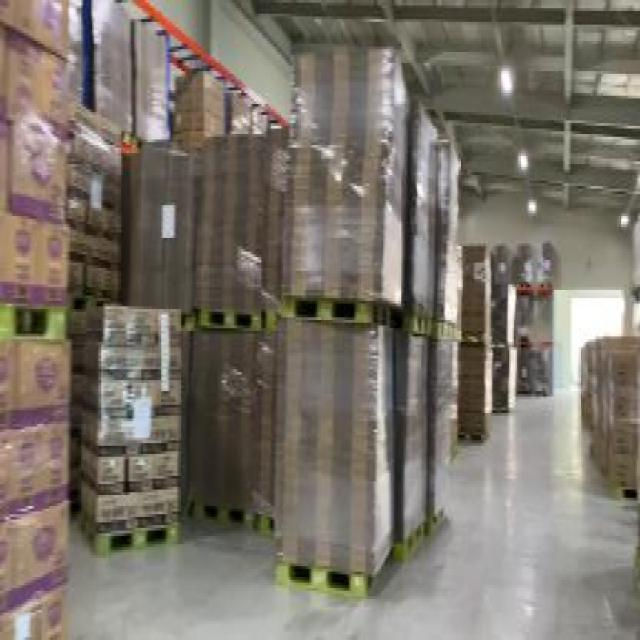box: (278, 44, 456, 596), (122, 128, 276, 550), (2, 3, 68, 632), (83, 295, 183, 558), (452, 230, 517, 451), (78, 3, 172, 153), (578, 331, 638, 506), (174, 68, 275, 170), (514, 230, 551, 394)
